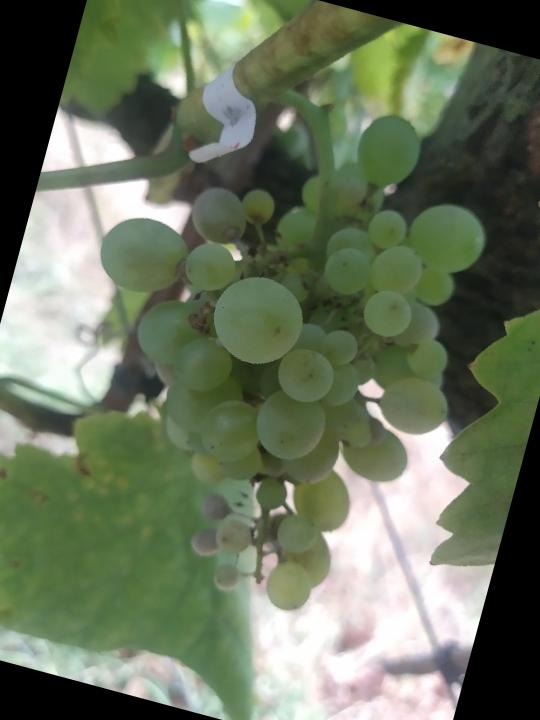grape: (18, 48, 517, 642)
